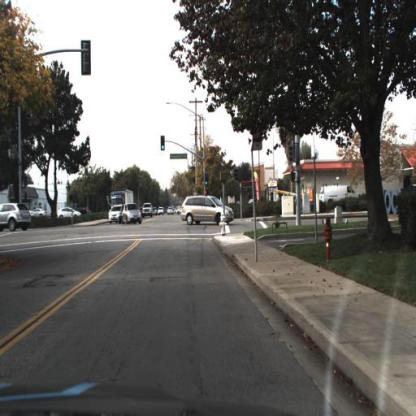car: (180, 194, 235, 230), (318, 181, 359, 213), (1, 201, 33, 232), (122, 203, 144, 227), (57, 204, 84, 221), (58, 206, 82, 222), (107, 203, 121, 228), (157, 206, 167, 218)
trafficLight-Green: (161, 133, 167, 153), (205, 174, 211, 188)
truck: (107, 190, 137, 211)
